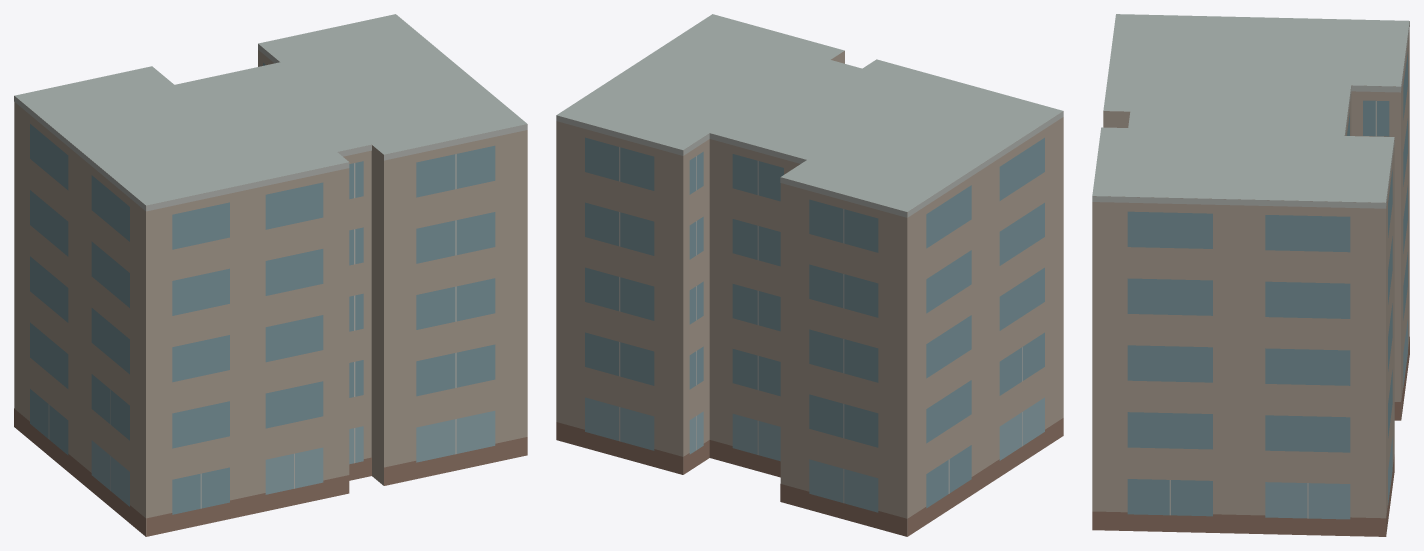
The model's file is survey-upis-32625843.glb.
3 renders of one model, left to right at view 1: azimuth 30°, elevation 25°; view 2: azimuth 150°, elevation 25°; view 3: azimuth 270°, elevation 25°, orthographic. The views are drawn at different scales.
Parts seen in each view (by area): view 1: survey-upis-32625843.tmp; view 2: survey-upis-32625843.tmp; view 3: survey-upis-32625843.tmp.
Part boxes in pixels (x1,y1,x2,y2): survey-upis-32625843.tmp: (14, 14, 527, 536); survey-upis-32625843.tmp: (556, 14, 1063, 536); survey-upis-32625843.tmp: (1092, 14, 1409, 536).
Bounding box in the file's own units: 16.61 × 13.7 × 11.81.
